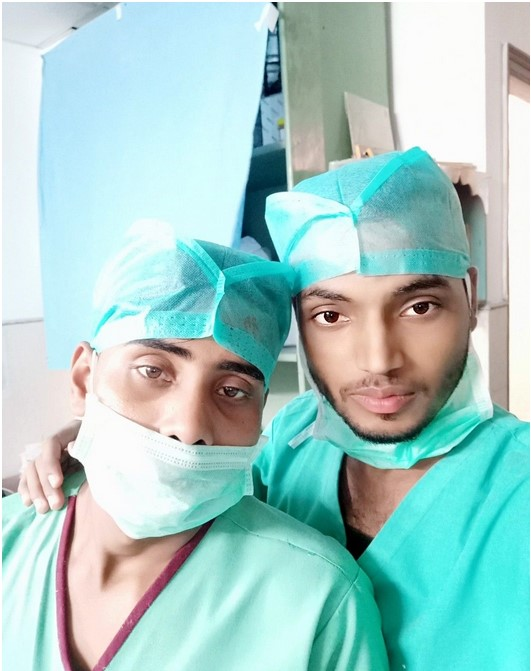face_with_mask: (78, 216, 294, 543), (270, 151, 477, 449)
